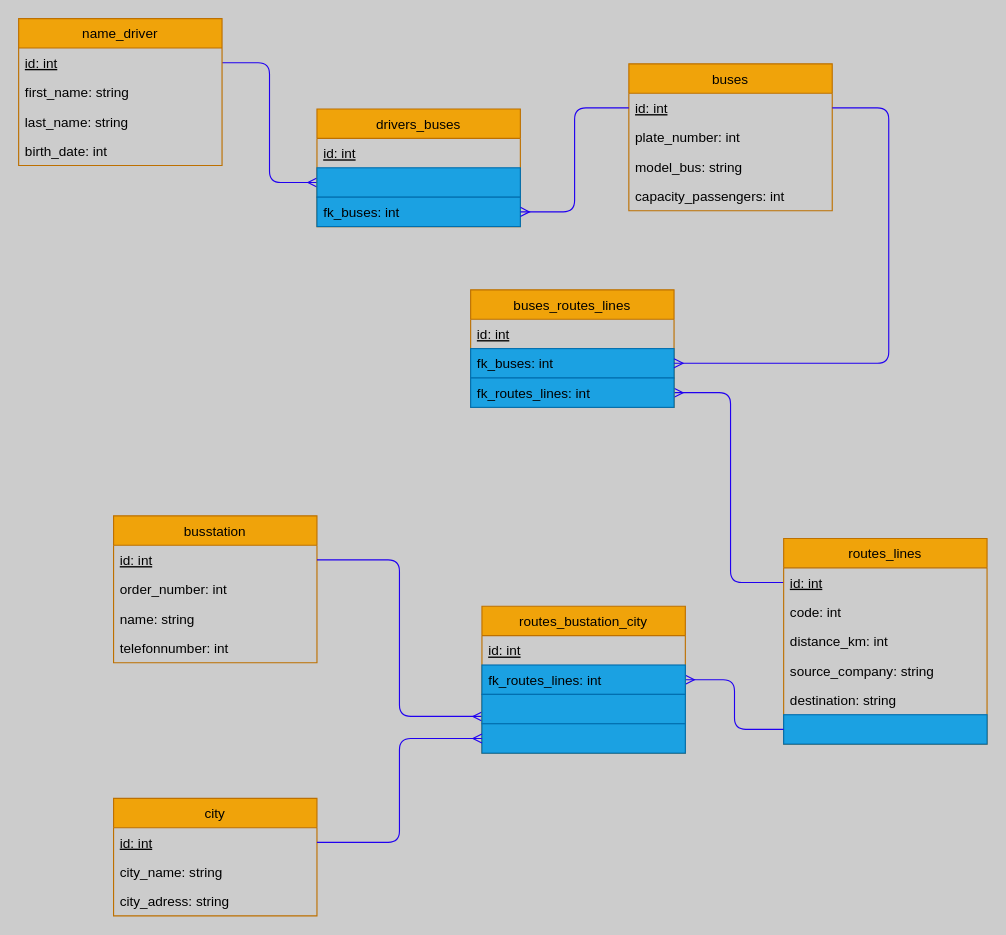
This 1006x935 diagram has some shape labels left out. Each missing label, with the centre of its shape:
"fk_busstation: int" belongs at point (885, 729).
"fk_bustation: int" belongs at point (583, 708).
"fk_city: int" belongs at point (583, 738).
"fk_name_driver: int" belongs at point (418, 182).
